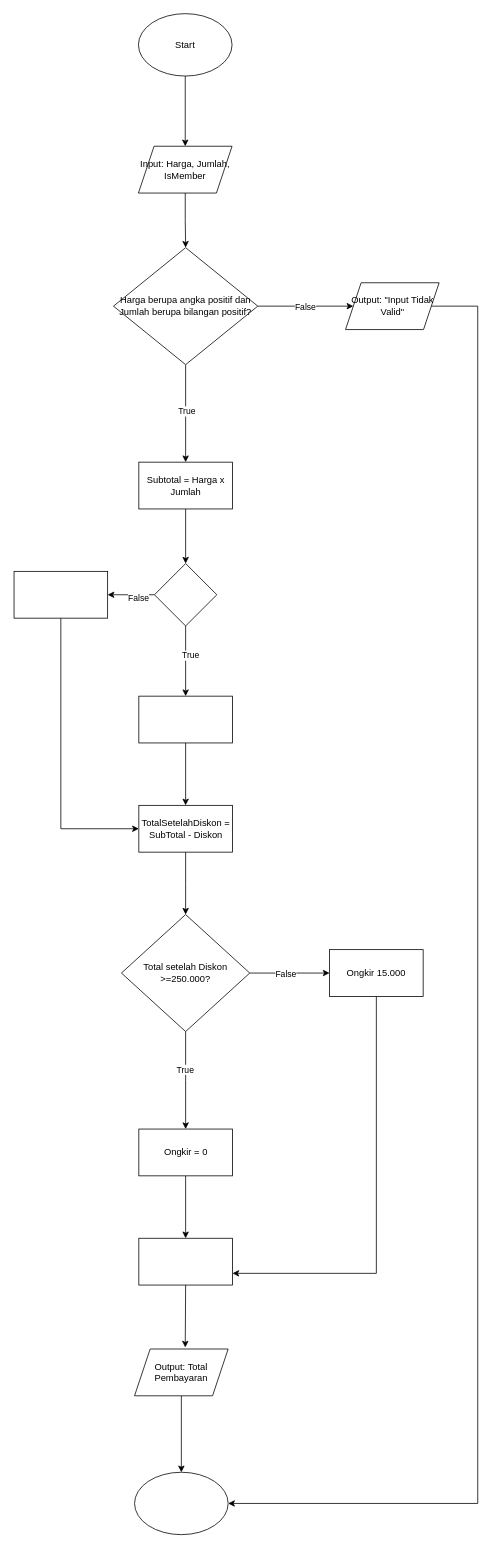
Some shapes in this 498 by 1548 pixel diagram are drawn without their labels. Each missing label, with the centre of its shape:
"Apakah Member ?" goes at (x=185, y=594).
"Diskon = 0" goes at (x=60, y=594).
"Diskon = 10% x SubTotal" goes at (x=185, y=719).
"End" goes at (x=181, y=1503).
"Total Bayar = TotalSetelahDiskon + Ongkir" goes at (x=185, y=1261).
